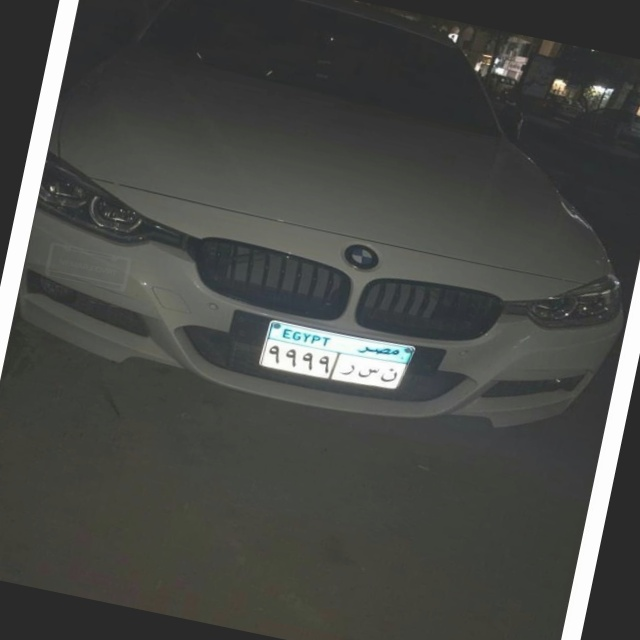License Plate: (256, 315, 418, 401)
